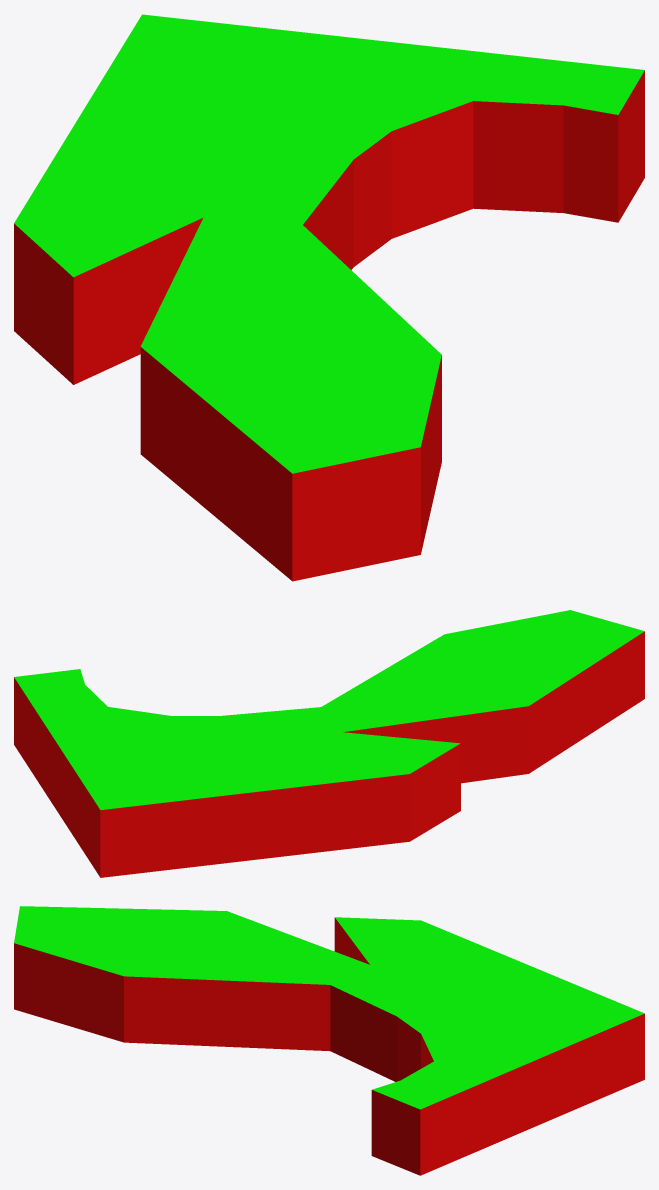
File: trees.FBX
3 views of the same model, one above another, from view 1: azimuth 30°, elevation 25°; view 2: azimuth 150°, elevation 25°; view 3: azimuth 270°, elevation 25° (orthographic). The views are drawn at different scales.
Visible parts, largest first — view 1: Line001; view 2: Line001; view 3: Line001.
Boxes of the visible parts, left/top/right/bottom form: Line001: left=14, top=14, right=644, bottom=581; Line001: left=14, top=610, right=644, bottom=877; Line001: left=14, top=906, right=644, bottom=1175.
Bounding box in the file's own units: 167 × 25.3 × 218.
